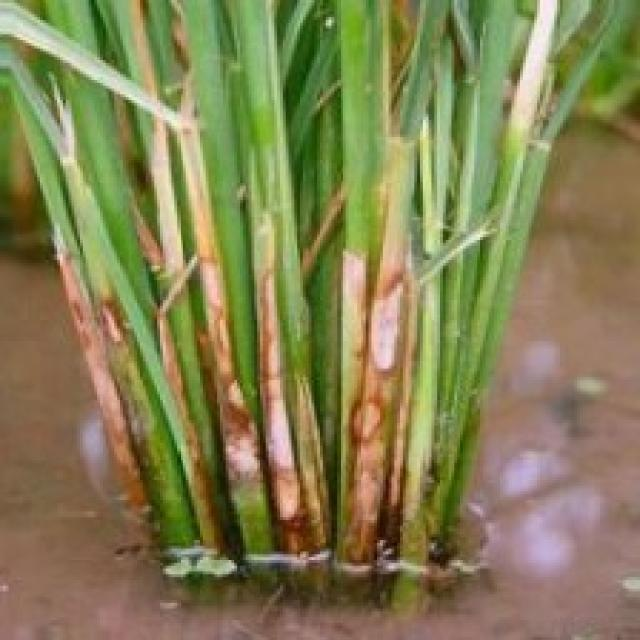Bacterial_Blight: (32, 248, 152, 517), (168, 206, 276, 487), (241, 278, 323, 528), (362, 282, 426, 387), (89, 294, 144, 361), (340, 396, 395, 447)
